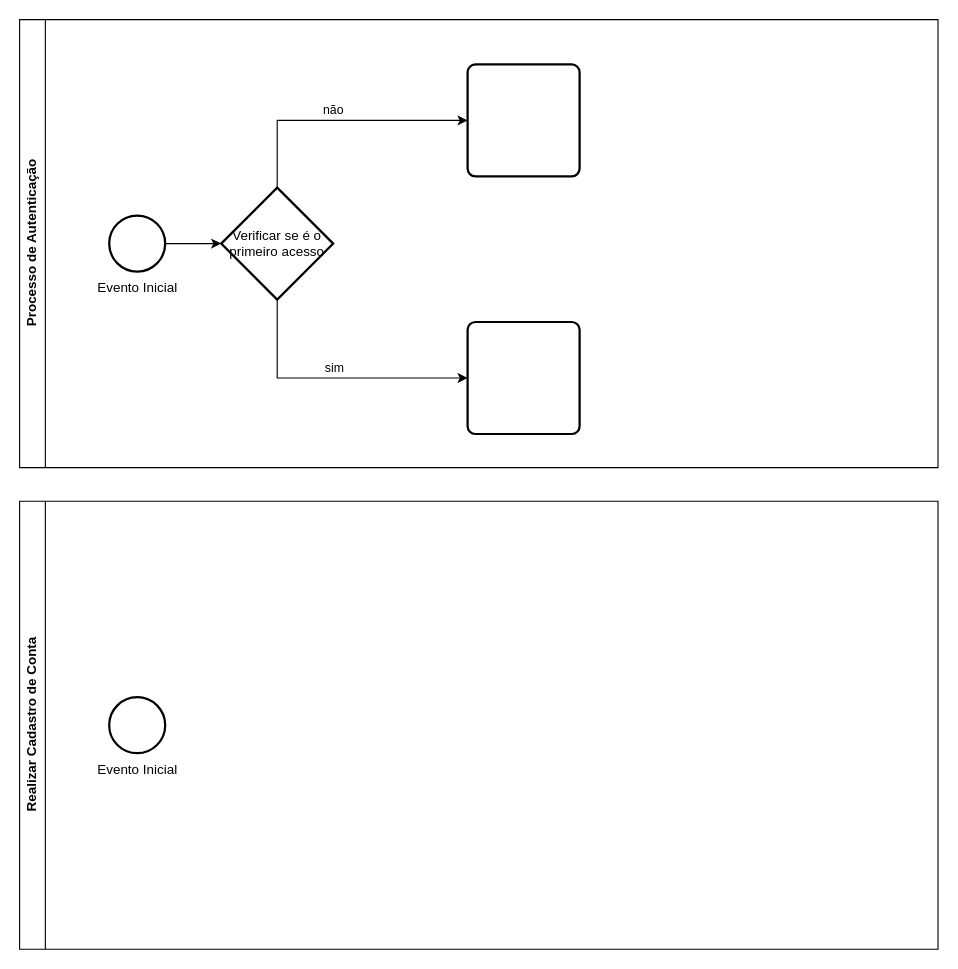
The diagram is 958 pixels wide and 969 high, and some of its shapes have lost their labels. Here are the shapes that lost their labels. From the top down, the centre of each, then its label:
(523,120): Mostrar a Tela de Login
(523,377): Mostrar a Tela de Cadastro de Conta
